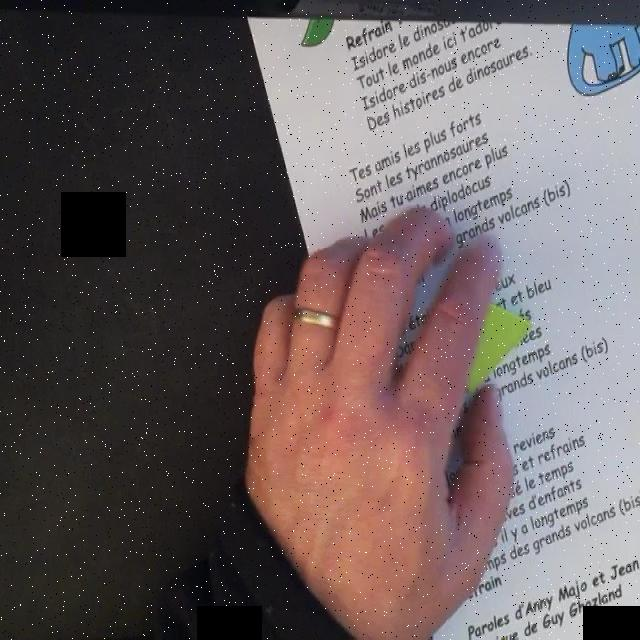triangle: (454, 291, 535, 398)
